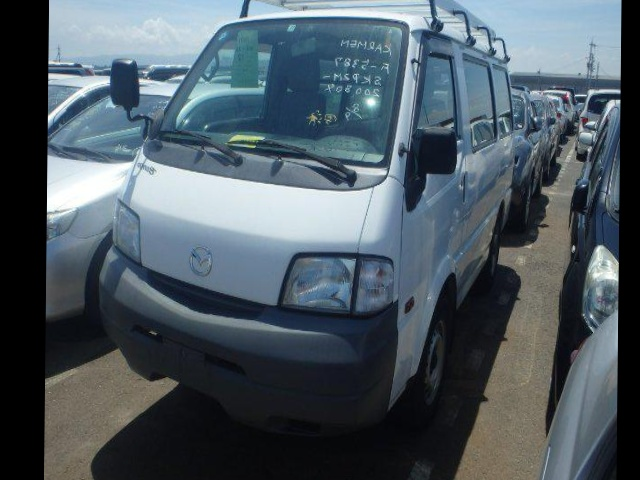van: (95, 0, 515, 427)
